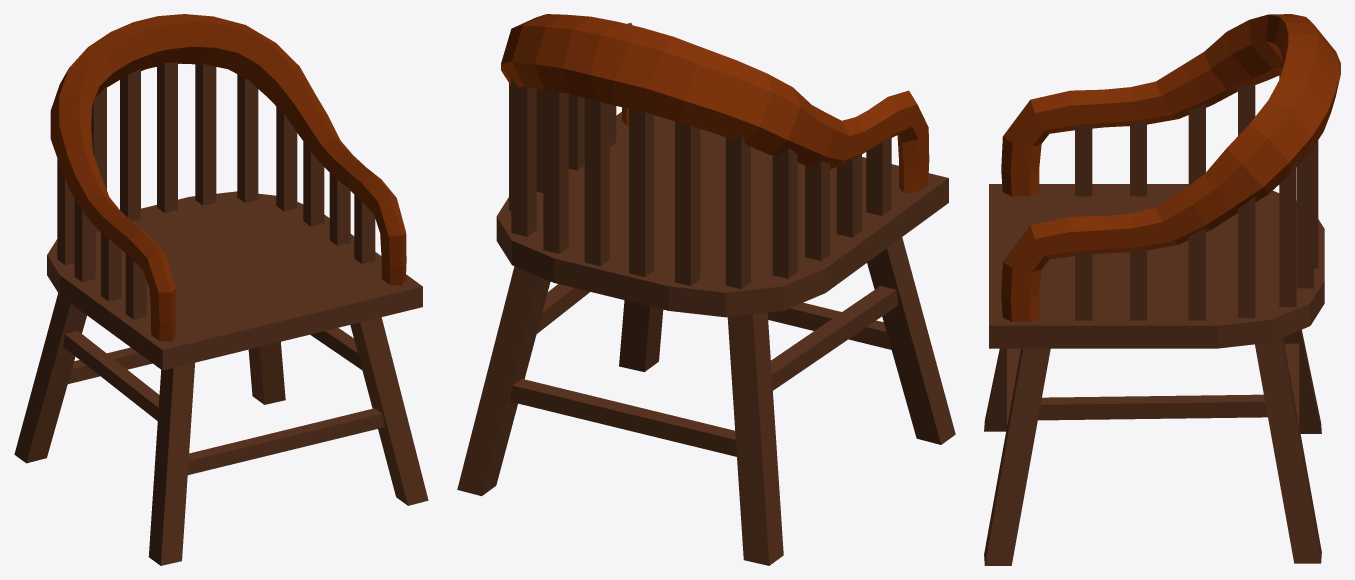
File: chair.fbx
The picture shows the model from 3 angles, left to right: view 1: azimuth 30°, elevation 25°; view 2: azimuth 150°, elevation 25°; view 3: azimuth 270°, elevation 25°; orthographic projection. The views are drawn at different scales.
Visible parts, largest first — view 1: chair; view 2: chair; view 3: chair.
Boxes of the visible parts, x1=… form: chair: x1=14, y1=14, x2=428, y2=565; chair: x1=457, y1=14, x2=955, y2=565; chair: x1=984, y1=14, x2=1340, y2=565.
Size of the model in its own units: 60.29 by 87.6 by 62.37.
